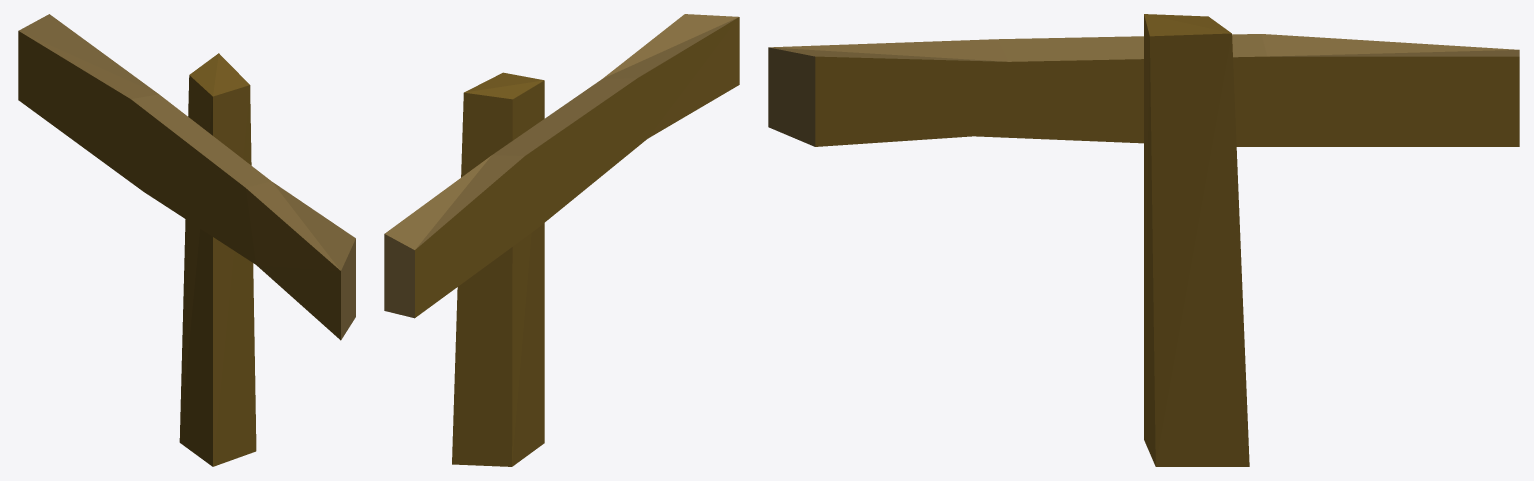
The picture shows the model from 3 angles, left to right: view 1: azimuth 30°, elevation 25°; view 2: azimuth 150°, elevation 25°; view 3: azimuth 270°, elevation 25°; orthographic projection. The views are drawn at different scales.
Bounding box in the file's own units: 19 × 81 × 128.
1 material, 1 textured.
